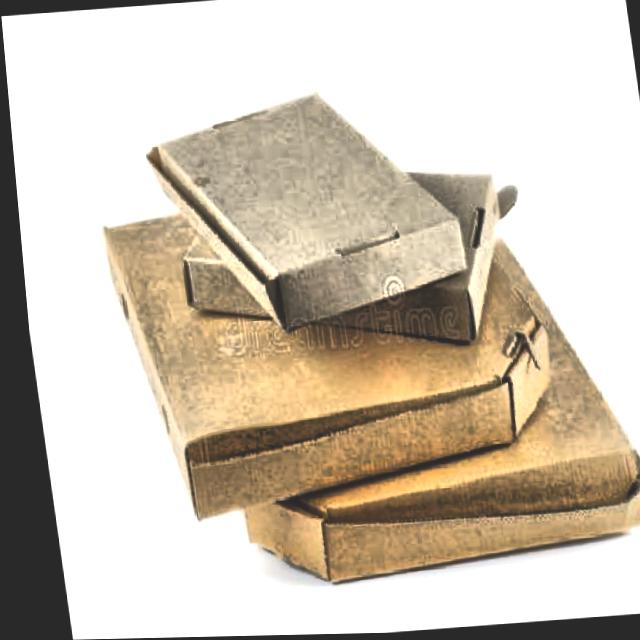Cardbox: (100, 88, 626, 621)
